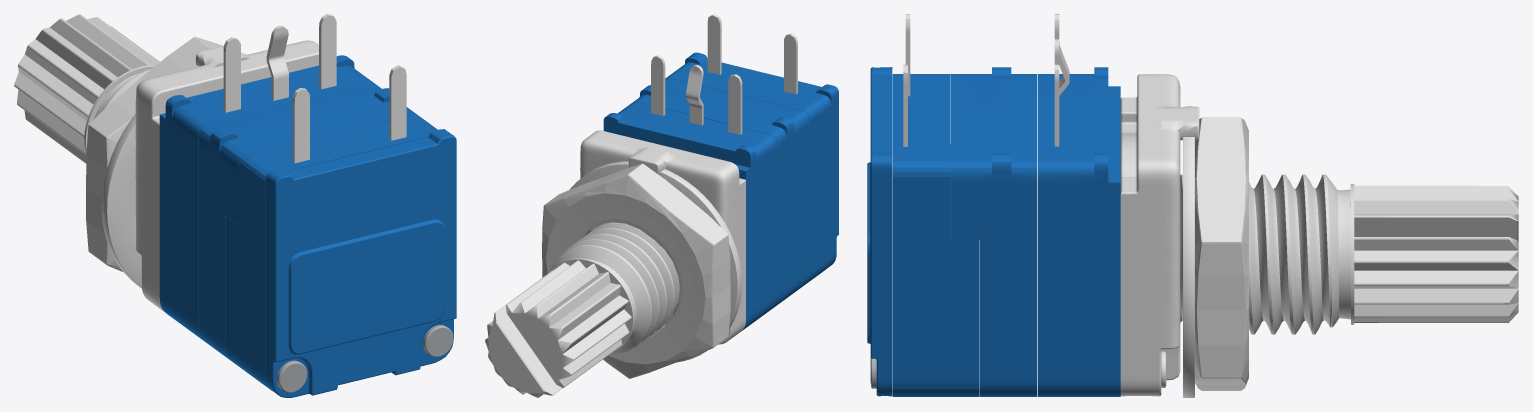
The model's file is potentiometer3.fbx.
3 views of the same model, side by side, from view 1: azimuth 30°, elevation 25°; view 2: azimuth 150°, elevation 25°; view 3: azimuth 270°, elevation 25° (orthographic). The views are drawn at different scales.
Parts seen in each view (by area): view 1: 5, 3, 3_1_2, 3_2, Cylinder_2, 3_1, foot, screw, Tube, head_1, Cylinder, Cylinder_1; view 2: screw, Cylinder_2, 3, 3_1_2, head_1, 3_2, 3_1, foot, Tube, 5, Cube; view 3: 3, 3_1_2, 3_2, Cylinder_2, 3_1, head_1, screw, 5, Cube, Tube, foot.
Part boxes in pixels (x1,y1,x2,y2): 5: (265, 129, 456, 397); 3: (159, 55, 377, 340); 3_1_2: (198, 85, 417, 360); 3_2: (225, 114, 437, 390); Cylinder_2: (14, 14, 159, 163); 3_1: (135, 40, 318, 312); foot: (223, 14, 406, 163); screw: (86, 37, 245, 271); Tube: (101, 65, 198, 288); head_1: (84, 65, 155, 154); Cylinder: (276, 360, 307, 392); Cylinder_1: (423, 325, 453, 356); screw: (542, 163, 730, 378); Cylinder_2: (485, 260, 631, 397); 3: (603, 102, 777, 330); 3_1_2: (633, 78, 809, 307); head_1: (549, 222, 679, 354); 3_2: (665, 62, 831, 292); 3_1: (580, 130, 745, 344); foot: (651, 14, 797, 134); Tube: (569, 161, 741, 361); 5: (685, 52, 838, 268); Cube: (495, 270, 562, 394); 3: (1037, 67, 1120, 396); 3_1_2: (950, 67, 1036, 396); 3_2: (892, 74, 979, 396); Cylinder_2: (1354, 185, 1518, 322); 3_1: (1120, 74, 1199, 396); head_1: (1180, 174, 1354, 334); screw: (1195, 117, 1248, 390); 5: (867, 67, 892, 396); Cube: (1354, 217, 1518, 242); Tube: (1183, 137, 1194, 397); foot: (903, 14, 1069, 146).
Size of the model in its own units: 39.64 by 53.74 by 90.17.
